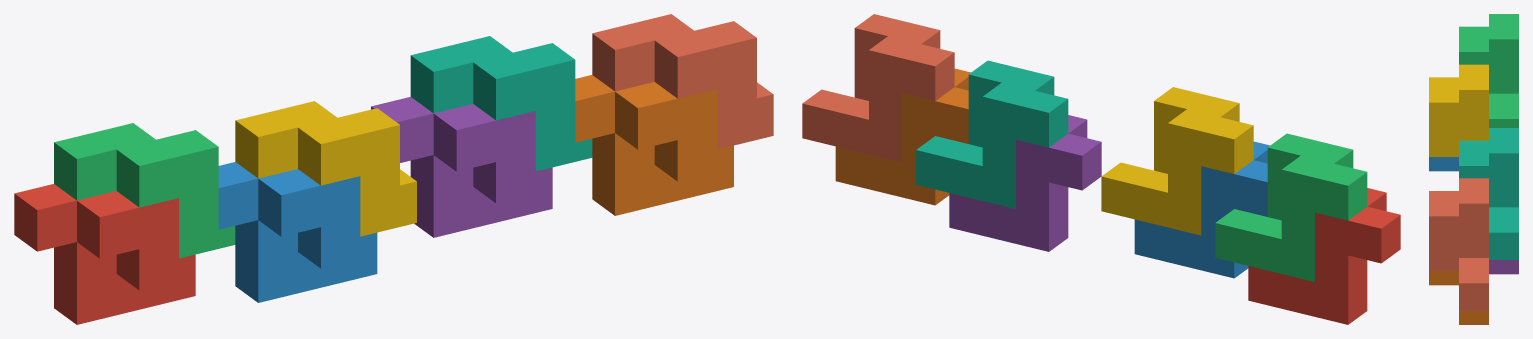
The model's file is tiling.obj.
3 renders of one model, left to right at view 1: azimuth 30°, elevation 25°; view 2: azimuth 150°, elevation 25°; view 3: azimuth 270°, elevation 25°, orthographic. The views are drawn at different scales.
Visible parts, largest first — view 1: copy_1_domain_1, copy_1_domain_2, copy_1_domain_6, copy_1_domain_5, copy_1_domain_4, copy_1_domain_8, copy_1_domain_7, copy_1_domain_3; view 2: copy_1_domain_7, copy_1_domain_3, copy_1_domain_8, copy_1_domain_4, copy_1_domain_1, copy_1_domain_5, copy_1_domain_2, copy_1_domain_6; view 3: copy_1_domain_8, copy_1_domain_7, copy_1_domain_4, copy_1_domain_3, copy_1_domain_6, copy_1_domain_2, copy_1_domain_5.
Part boxes in pixels (x1,y1,x2,y2): copy_1_domain_1: (14,184,195,324); copy_1_domain_2: (218,162,377,302); copy_1_domain_6: (575,75,733,215); copy_1_domain_5: (371,96,552,237); copy_1_domain_4: (235,101,416,236); copy_1_domain_8: (592,14,773,149); copy_1_domain_7: (410,36,592,171); copy_1_domain_3: (54,123,235,258); copy_1_domain_7: (916,60,1068,208); copy_1_domain_3: (1215,133,1367,281); copy_1_domain_8: (802,14,954,162); copy_1_domain_4: (1101,87,1253,235); copy_1_domain_1: (1248,188,1400,324); copy_1_domain_5: (949,115,1101,251); copy_1_domain_2: (1134,141,1269,278); copy_1_domain_6: (835,68,970,205); copy_1_domain_8: (1429,178,1488,310); copy_1_domain_7: (1459,128,1518,259); copy_1_domain_4: (1429,64,1488,156); copy_1_domain_3: (1459,14,1518,127); copy_1_domain_6: (1429,270,1488,324); copy_1_domain_2: (1429,157,1458,171); copy_1_domain_5: (1489,260,1518,274).
Bounding box in the file's own units: 18 × 4 × 3.
